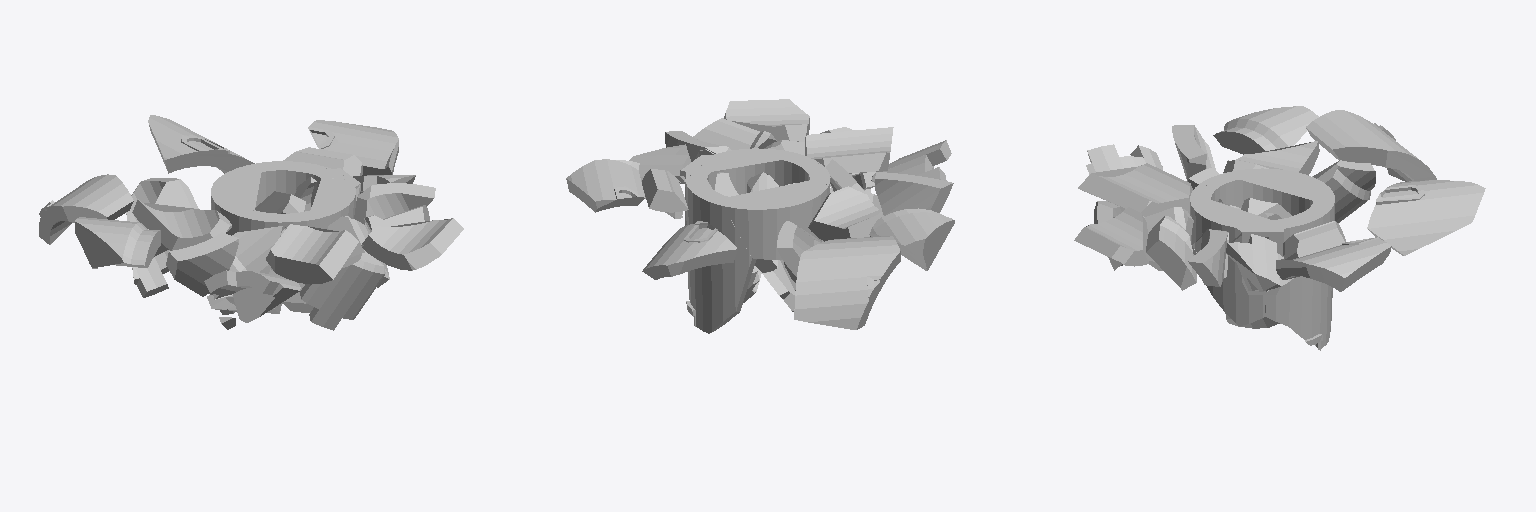
The model's file is destruction_tower_000070.obj.
The picture shows the model from 3 angles: view 1: azimuth 30°, elevation 25°; view 2: azimuth 150°, elevation 25°; view 3: azimuth 270°, elevation 25°; orthographic projection.
Visible parts, largest first — view 1: tower.001_cell.024_Mesh.024, tower.001_cell.011_Mesh.011, tower.001_cell.021_Mesh.021, tower.001_cell.005_Mesh.005, tower.001_cell.003_Mesh.003, tower.001_cell.012_Mesh.012, tower.001_cell.025_Mesh.025, tower.001_cell.009_Mesh.009, tower.001_cell.006_Mesh.006, tower.001_cell.007_Mesh.007, tower.001_cell.002_Mesh.002, tower.001_cell.010_Mesh.010 (+10 smaller); view 2: tower.001_cell.003_Mesh.003, tower.001_cell.017_Mesh.017, tower.001_cell.015_Mesh.015, tower.001_cell.025_Mesh.025, tower.001_cell.024_Mesh.024, tower.001_cell.012_Mesh.012, tower.001_cell.028_Mesh.028, tower.001_cell.005_Mesh.005, tower.001_cell.009_Mesh.009, tower.001_cell.021_Mesh.021, tower.001_cell.002_Mesh.002, tower.001_cell_Mesh (+8 smaller); view 3: tower.001_cell.025_Mesh.025, tower.001_cell.003_Mesh.003, tower.001_cell.024_Mesh.024, tower.001_cell.017_Mesh.017, tower.001_cell.012_Mesh.012, tower.001_cell.005_Mesh.005, tower.001_cell.015_Mesh.015, tower.001_cell.021_Mesh.021, tower.001_cell.028_Mesh.028, tower.001_cell_Mesh, tower.001_cell.020_Mesh.020, tower.001_cell.007_Mesh.007 (+11 smaller).
Boxes of the visible parts, x1=… form: tower.001_cell.024_Mesh.024: x1=266, y1=224, x2=358, y2=284; tower.001_cell.011_Mesh.011: x1=300, y1=253, x2=385, y2=330; tower.001_cell.021_Mesh.021: x1=361, y1=218, x2=463, y2=270; tower.001_cell.005_Mesh.005: x1=75, y1=217, x2=160, y2=268; tower.001_cell.003_Mesh.003: x1=39, y1=174, x2=133, y2=244; tower.001_cell.012_Mesh.012: x1=308, y1=120, x2=398, y2=175; tower.001_cell.025_Mesh.025: x1=148, y1=115, x2=254, y2=173; tower.001_cell.009_Mesh.009: x1=132, y1=199, x2=231, y2=250; tower.001_cell.006_Mesh.006: x1=204, y1=270, x2=300, y2=322; tower.001_cell.007_Mesh.007: x1=126, y1=178, x2=198, y2=297; tower.001_cell.002_Mesh.002: x1=166, y1=232, x2=238, y2=296; tower.001_cell.010_Mesh.010: x1=354, y1=183, x2=435, y2=227; tower.001_cell.003_Mesh.003: x1=794, y1=236, x2=900, y2=329; tower.001_cell.017_Mesh.017: x1=685, y1=175, x2=756, y2=333; tower.001_cell.015_Mesh.015: x1=724, y1=180, x2=828, y2=259; tower.001_cell.025_Mesh.025: x1=642, y1=221, x2=737, y2=279; tower.001_cell.024_Mesh.024: x1=805, y1=127, x2=893, y2=175; tower.001_cell.012_Mesh.012: x1=566, y1=159, x2=644, y2=212; tower.001_cell.028_Mesh.028: x1=701, y1=148, x2=818, y2=194; tower.001_cell.005_Mesh.005: x1=869, y1=208, x2=954, y2=270; tower.001_cell.009_Mesh.009: x1=808, y1=186, x2=882, y2=241; tower.001_cell.021_Mesh.021: x1=724, y1=99, x2=809, y2=141; tower.001_cell.002_Mesh.002: x1=875, y1=172, x2=953, y2=215; tower.001_cell_Mesh: x1=693, y1=118, x2=776, y2=149; tower.001_cell.025_Mesh.025: x1=1367, y1=180, x2=1485, y2=255; tower.001_cell.003_Mesh.003: x1=1306, y1=110, x2=1436, y2=181; tower.001_cell.024_Mesh.024: x1=1078, y1=163, x2=1192, y2=216; tower.001_cell.017_Mesh.017: x1=1289, y1=198, x2=1334, y2=350; tower.001_cell.012_Mesh.012: x1=1276, y1=237, x2=1391, y2=291; tower.001_cell.005_Mesh.005: x1=1213, y1=106, x2=1318, y2=154; tower.001_cell.015_Mesh.015: x1=1239, y1=168, x2=1334, y2=215; tower.001_cell.021_Mesh.021: x1=1074, y1=207, x2=1148, y2=266; tower.001_cell.028_Mesh.028: x1=1190, y1=185, x2=1269, y2=254; tower.001_cell_Mesh: x1=1146, y1=216, x2=1196, y2=290; tower.001_cell.020_Mesh.020: x1=1206, y1=226, x2=1268, y2=325; tower.001_cell.007_Mesh.007: x1=1312, y1=160, x2=1375, y2=222.
Bounding box in the file's own units: 115 × 44.59 × 121.